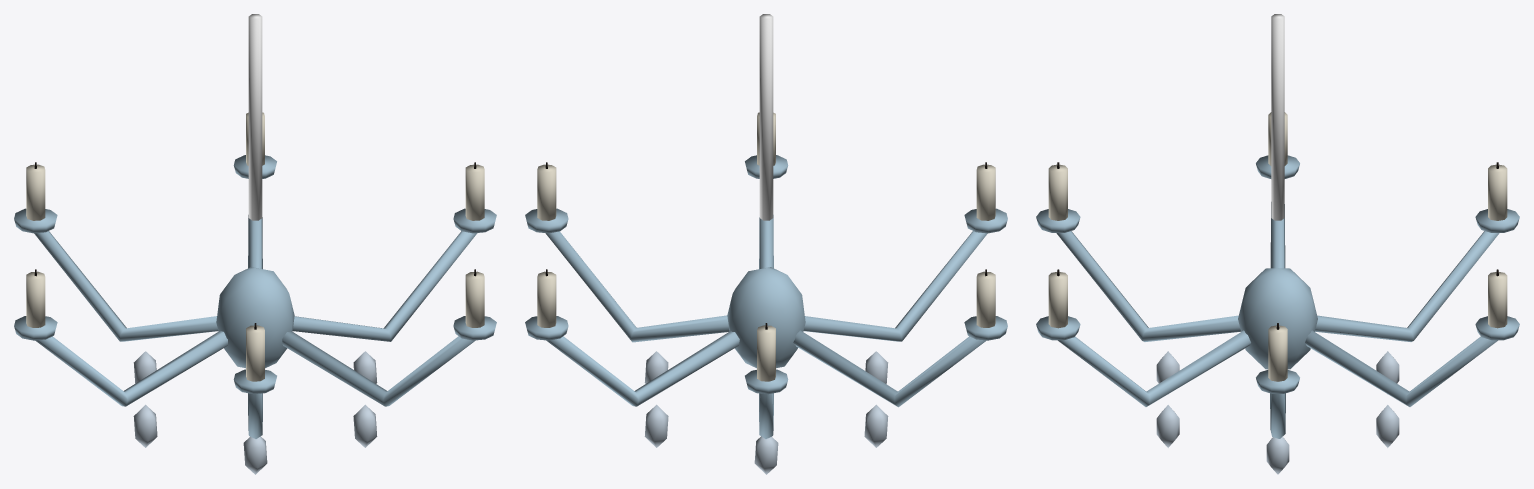
File: glass_chandelier_v0.glb
The picture shows the model from 3 angles, left to right: view 1: azimuth 30°, elevation 25°; view 2: azimuth 150°, elevation 25°; view 3: azimuth 270°, elevation 25°; orthographic projection.
Parts seen in each view (by area): view 1: glass_chandelier_v0; view 2: glass_chandelier_v0; view 3: glass_chandelier_v0.
Boxes of the visible parts, x1,y1,x2,y2 form: glass_chandelier_v0: (14, 14, 496, 474); glass_chandelier_v0: (525, 14, 1007, 474); glass_chandelier_v0: (1036, 14, 1519, 474).
Size of the model in its own units: 1.24 by 1 by 1.09.
